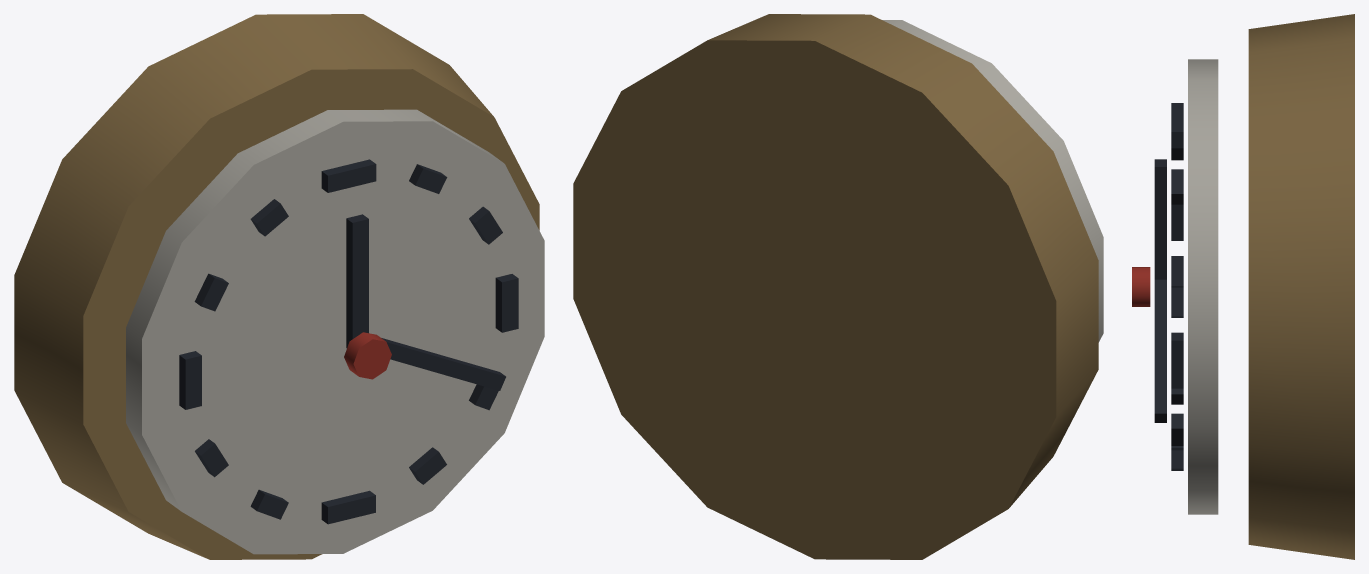
File: wall_clock.glb
3 renders of one model, left to right at view 1: azimuth 30°, elevation 25°; view 2: azimuth 150°, elevation 25°; view 3: azimuth 270°, elevation 25°, orthographic. The views are drawn at different scales.
Parts seen in each view (by area): view 1: wall_clock; view 2: wall_clock; view 3: wall_clock.
Part boxes in pixels (left/top/right/bottom): wall_clock: left=14, top=14, right=544, bottom=559; wall_clock: left=573, top=14, right=1103, bottom=559; wall_clock: left=1132, top=14, right=1354, bottom=559.
Size of the model in its own units: 0.351 by 0.36 by 0.147.
